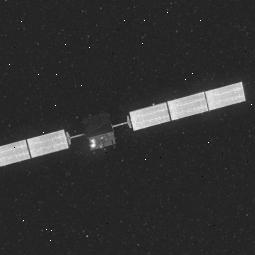smart_1: (2, 76, 202, 188)
